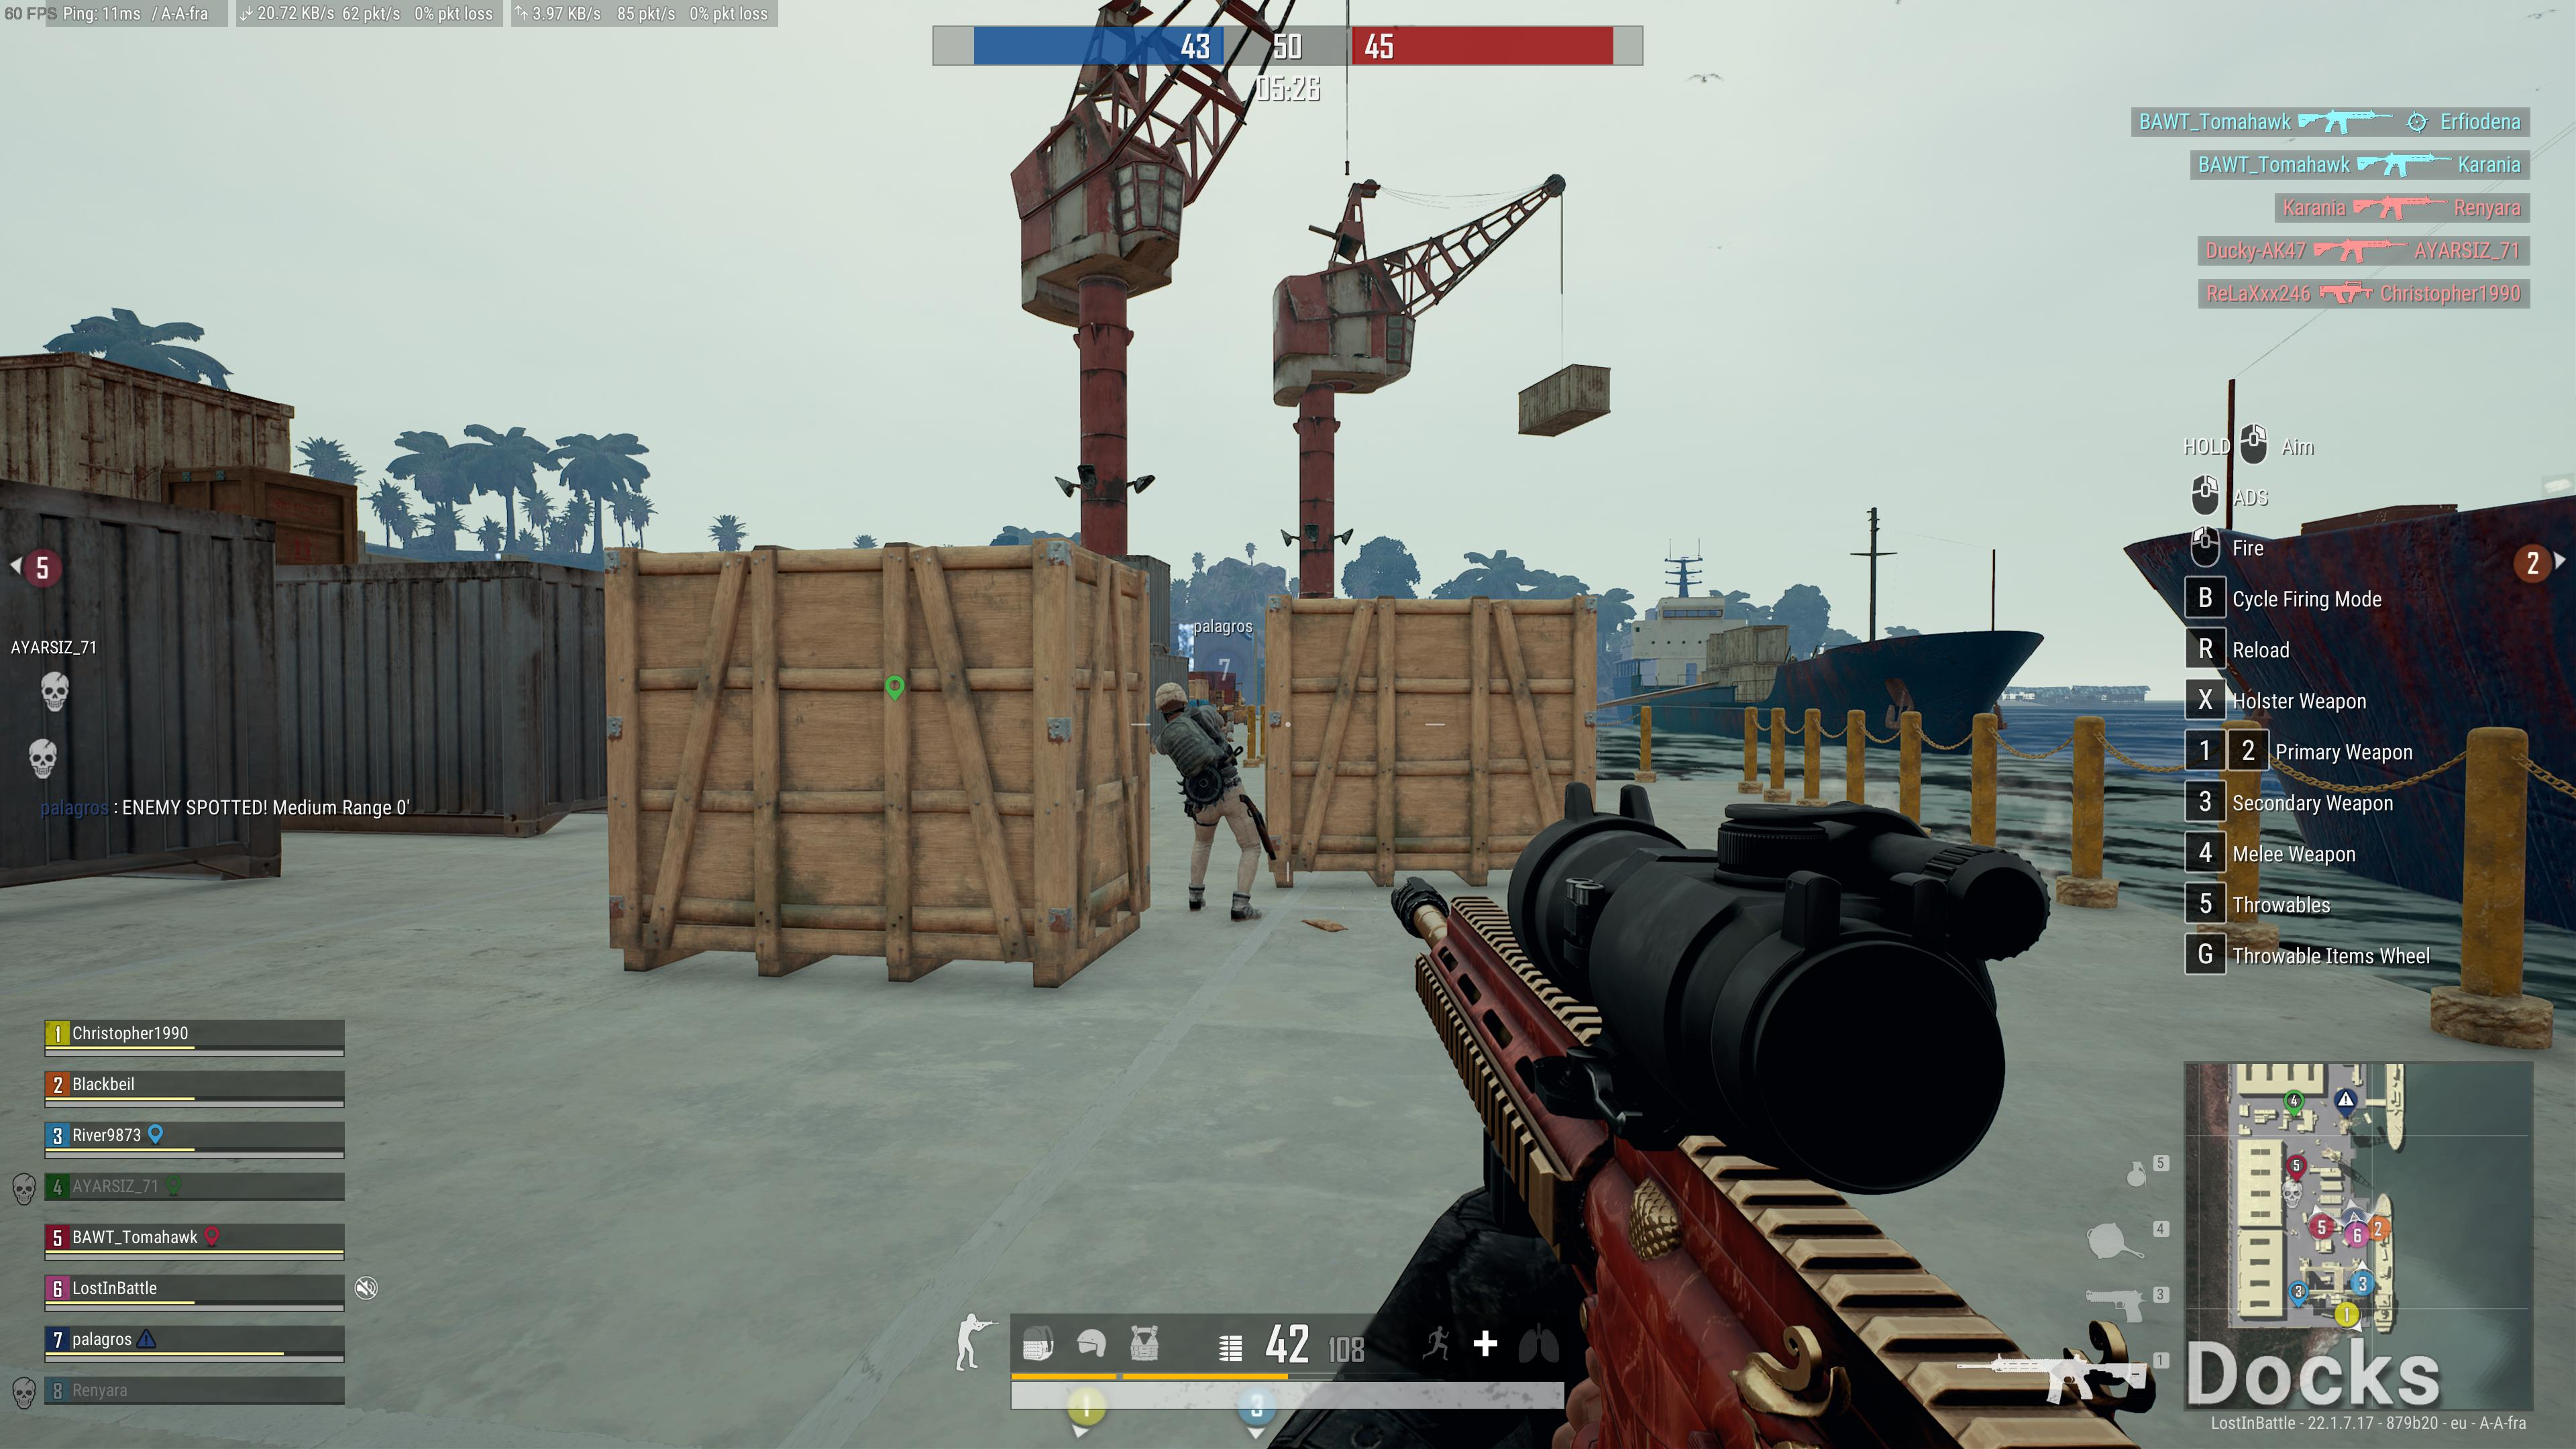enemy: (1787, 653, 1798, 662)
enemy_head: (1790, 653, 1796, 660)
friendly: (1150, 662, 1265, 918)
